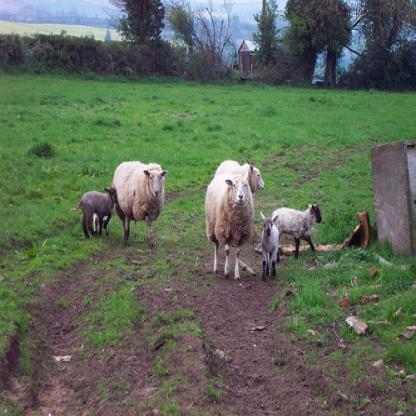sheep: (255, 197, 327, 281), (205, 171, 256, 282), (112, 160, 167, 250), (69, 185, 117, 236), (216, 159, 264, 195), (258, 210, 280, 282)
